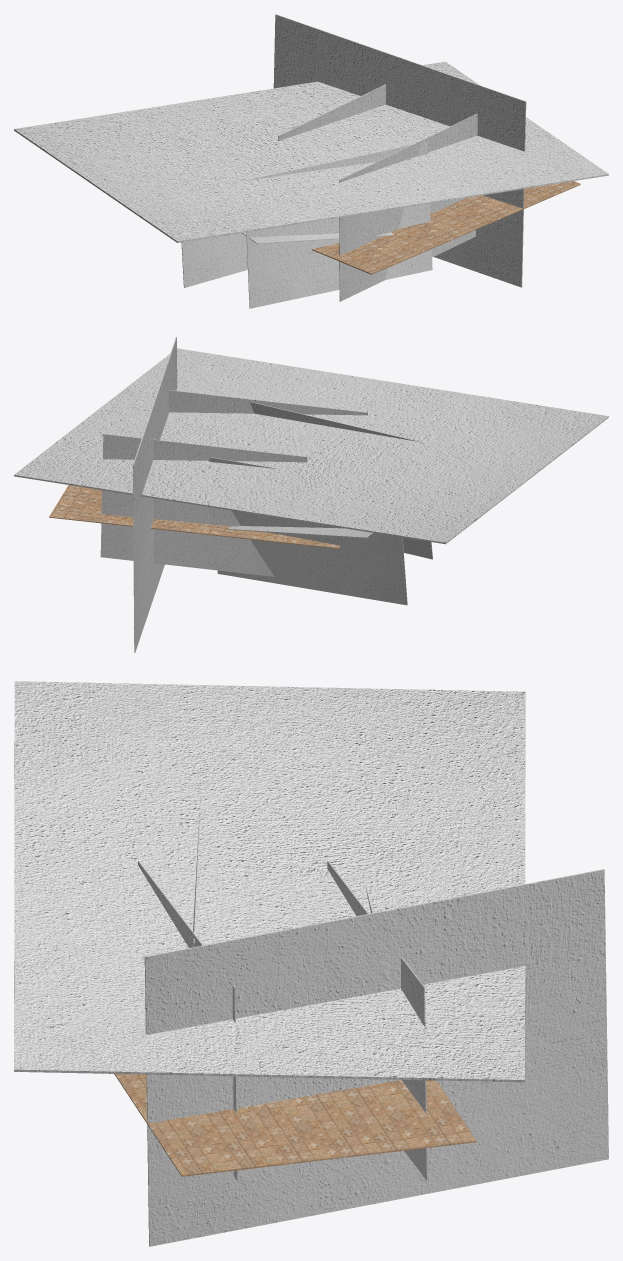
The model's file is mapa9.fbx.
3 views of the same model, one above another, from view 1: azimuth 30°, elevation 25°; view 2: azimuth 150°, elevation 25°; view 3: azimuth 270°, elevation 25° (orthographic). The views are drawn at different scales.
Visible parts, largest first — view 1: Plane.003, Plane.007, Plane.002, Plane.004, Plane.005, Plane.001, Plane.006, Plane; view 2: Plane.003, Plane.006, Plane.001, Plane.007, Plane.004, Plane.005, Plane.002, Plane; view 3: Plane.003, Plane.007, Plane.004, Plane.006, Plane.005.
Boxes of the visible parts, box(x1,y1,x2,y2) form: Plane.003: box(14, 61, 608, 242); Plane.007: box(273, 14, 526, 287); Plane.002: box(245, 142, 432, 308); Plane.004: box(312, 181, 580, 274); Plane.005: box(339, 113, 477, 301); Plane.001: box(181, 124, 301, 287); Plane.006: box(278, 84, 385, 140); Plane: box(242, 232, 394, 243); Plane.003: box(14, 348, 608, 544); Plane.006: box(100, 434, 307, 576); Plane.001: box(209, 457, 407, 605); Plane.007: box(133, 337, 177, 652); Plane.004: box(49, 485, 340, 549); Plane.005: box(169, 390, 367, 415); Plane.002: box(250, 402, 432, 559); Plane: box(228, 526, 372, 538); Plane.003: box(14, 681, 525, 1082); Plane.007: box(144, 869, 608, 1246); Plane.004: box(114, 1074, 476, 1176); Plane.006: box(327, 861, 427, 1180); Plane.005: box(138, 861, 238, 1180).
Size of the model in its own units: 7.8 by 3.12 by 5.62.
Materials: 4 (4 with a texture image).
